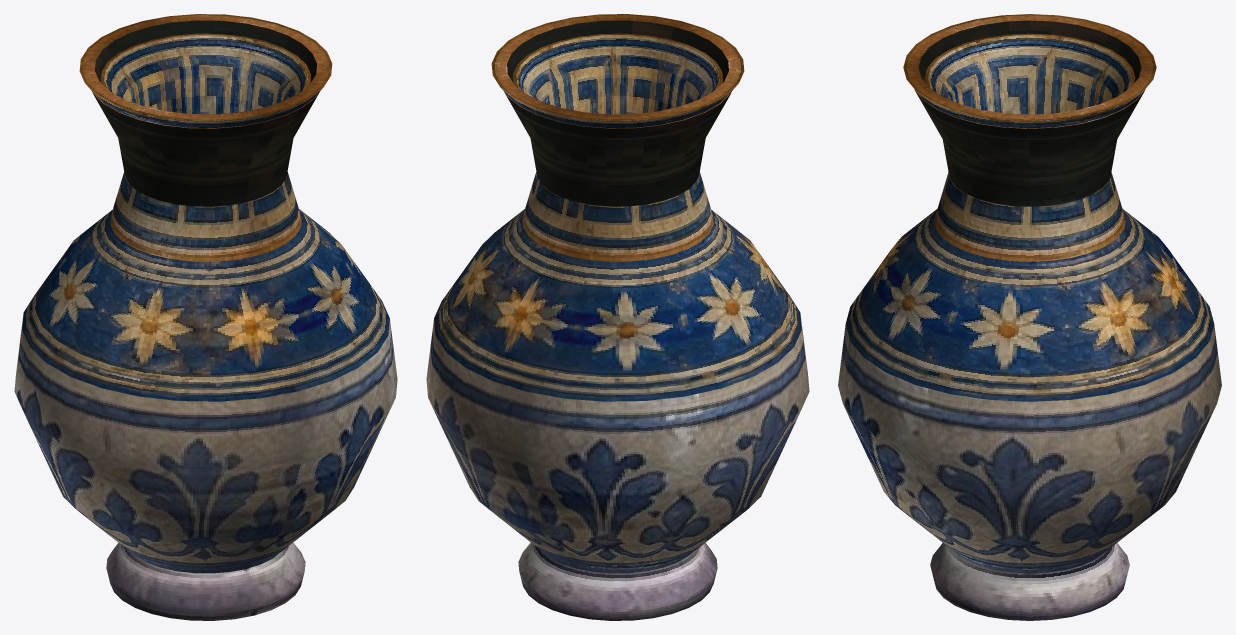
Rendered from vase_blue.glb.
3 views of the same model, side by side, from view 1: azimuth 30°, elevation 25°; view 2: azimuth 150°, elevation 25°; view 3: azimuth 270°, elevation 25° (orthographic).
Parts seen in each view (by area): view 1: body, piece_11, piece_06, piece_09, piece_05, piece_01, piece_07, piece_04, piece_10, piece_02, piece_08; view 2: body, piece_09, piece_10, piece_04, piece_03, piece_11, piece_07, piece_06, piece_05, piece_08, piece_00; view 3: body, piece_11, piece_00, piece_07, piece_08, piece_02, piece_09, piece_03, piece_06, piece_10, piece_01.
Part boxes in pixels (box(x1,y1,x2,y2)): body: box(14, 14, 397, 620); piece_11: box(50, 68, 212, 376); piece_06: box(169, 93, 351, 391); piece_09: box(110, 15, 272, 114); piece_05: box(31, 320, 158, 599); piece_01: box(146, 386, 340, 619); piece_07: box(259, 34, 389, 370); piece_04: box(22, 282, 149, 607); piece_10: box(43, 33, 149, 319); piece_02: box(267, 337, 395, 606); piece_08: box(250, 23, 299, 110); body: box(426, 14, 809, 620); piece_09: box(463, 64, 603, 364); piece_10: box(595, 108, 743, 364); piece_04: box(595, 342, 772, 620); piece_03: box(438, 337, 613, 620); piece_11: box(663, 40, 788, 341); piece_07: box(502, 14, 623, 114); piece_06: box(621, 14, 754, 246); piece_05: box(697, 308, 801, 588); piece_08: box(440, 50, 540, 324); piece_00: box(428, 297, 553, 604); body: box(838, 14, 1221, 620); piece_11: box(920, 14, 1087, 114); piece_00: box(978, 364, 1170, 615); piece_07: box(861, 90, 1053, 400); piece_08: box(1001, 112, 1149, 400); piece_02: box(856, 358, 1000, 610); piece_09: box(1069, 50, 1196, 361); piece_03: box(1108, 282, 1214, 595); piece_06: box(848, 43, 957, 355); piece_10: box(1069, 21, 1148, 219); piece_01: box(838, 303, 950, 577).
Bounding box in the file's own units: 0.38 × 0.56 × 0.38.
1 material, 1 textured.
